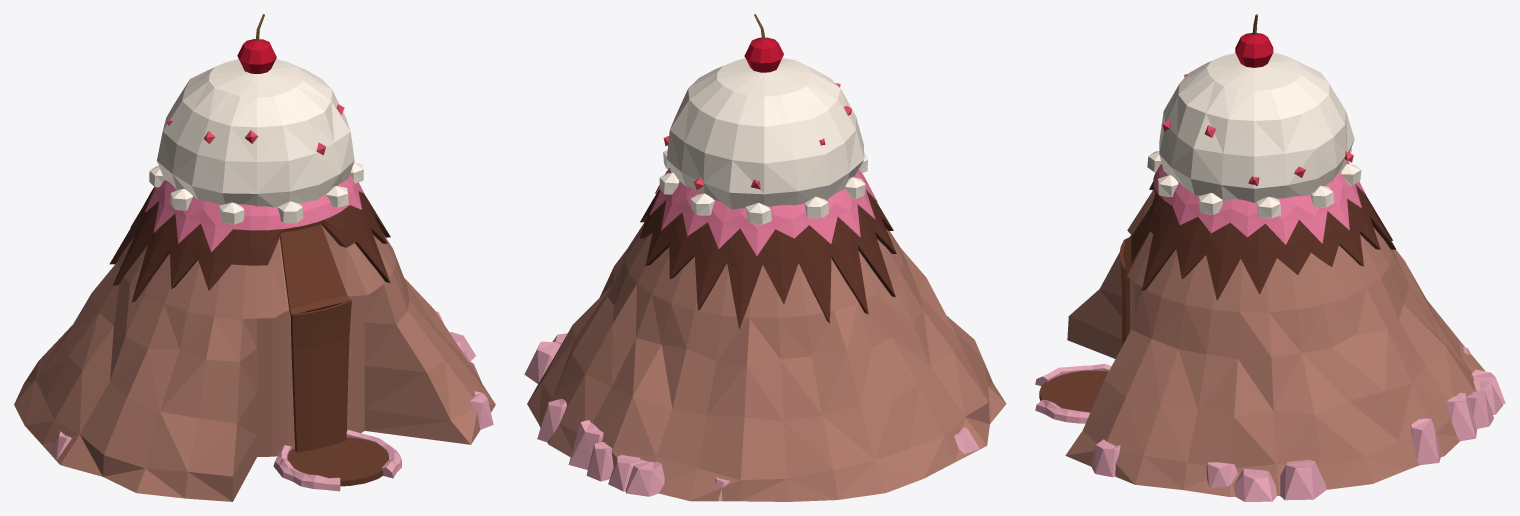
File: CV3_IceCreamMountain_L.fbx
3 renders of one model, left to right at view 1: azimuth 30°, elevation 25°; view 2: azimuth 150°, elevation 25°; view 3: azimuth 270°, elevation 25°, orthographic.
Parts seen in each view (by area): view 1: CV3_IceCreamMountain_L_Base, CV3_IceCreamMountain_L_Scoop, CV3_IceCreamMountain_L_Fudge, CV3_IceCreamMountain_L_Waterfall, CV3_IceCreamMountain_L_Sauce, CV3_IceCreamMountain_L_River, CV3_IceCreamMountain_L_Pool, CV3_IceCreamMountain_L_PoolLip, CV3_IceCreamMountain_L_Rocks, CV3_IceCreamMountain_L_Cherry; view 2: CV3_IceCreamMountain_L_Base, CV3_IceCreamMountain_L_Scoop, CV3_IceCreamMountain_L_Fudge, CV3_IceCreamMountain_L_Sauce, CV3_IceCreamMountain_L_Rocks, CV3_IceCreamMountain_L_Cherry; view 3: CV3_IceCreamMountain_L_Base, CV3_IceCreamMountain_L_Scoop, CV3_IceCreamMountain_L_Fudge, CV3_IceCreamMountain_L_Rocks, CV3_IceCreamMountain_L_Sauce, CV3_IceCreamMountain_L_Pool, CV3_IceCreamMountain_L_PoolLip, CV3_IceCreamMountain_L_Cherry, CV3_IceCreamMountain_L_Waterfall, CV3_IceCreamMountain_L_River.
Boxes of the visible parts, left/top/right/bottom form: CV3_IceCreamMountain_L_Base: left=14, top=225, right=495, bottom=501; CV3_IceCreamMountain_L_Scoop: left=149, top=59, right=363, bottom=224; CV3_IceCreamMountain_L_Fudge: left=109, top=187, right=390, bottom=302; CV3_IceCreamMountain_L_Waterfall: left=291, top=301, right=351, bottom=452; CV3_IceCreamMountain_L_Sauce: left=145, top=175, right=363, bottom=251; CV3_IceCreamMountain_L_River: left=280, top=224, right=351, bottom=316; CV3_IceCreamMountain_L_Pool: left=287, top=437, right=388, bottom=486; CV3_IceCreamMountain_L_PoolLip: left=273, top=429, right=401, bottom=491; CV3_IceCreamMountain_L_Rocks: left=50, top=311, right=493, bottom=459; CV3_IceCreamMountain_L_Cherry: left=237, top=39, right=276, bottom=73; CV3_IceCreamMountain_L_Base: left=527, top=222, right=1006, bottom=501; CV3_IceCreamMountain_L_Scoop: left=659, top=58, right=867, bottom=224; CV3_IceCreamMountain_L_Fudge: left=639, top=189, right=896, bottom=329; CV3_IceCreamMountain_L_Sauce: left=649, top=168, right=877, bottom=256; CV3_IceCreamMountain_L_Rocks: left=524, top=333, right=979, bottom=501; CV3_IceCreamMountain_L_Cherry: left=744, top=37, right=783, bottom=72; CV3_IceCreamMountain_L_Base: left=1065, top=188, right=1485, bottom=496; CV3_IceCreamMountain_L_Scoop: left=1147, top=52, right=1361, bottom=218; CV3_IceCreamMountain_L_Fudge: left=1142, top=181, right=1396, bottom=300; CV3_IceCreamMountain_L_Rocks: left=1091, top=346, right=1505, bottom=501; CV3_IceCreamMountain_L_Sauce: left=1153, top=160, right=1365, bottom=244; CV3_IceCreamMountain_L_Pool: left=1039, top=370, right=1108, bottom=412; CV3_IceCreamMountain_L_PoolLip: left=1035, top=363, right=1111, bottom=423; CV3_IceCreamMountain_L_Cherry: left=1235, top=33, right=1273, bottom=67; CV3_IceCreamMountain_L_Waterfall: left=1119, top=239, right=1129, bottom=346; CV3_IceCreamMountain_L_River: left=1125, top=205, right=1151, bottom=270.
Bounding box in the file's own units: 103 × 90.43 × 99.64.
